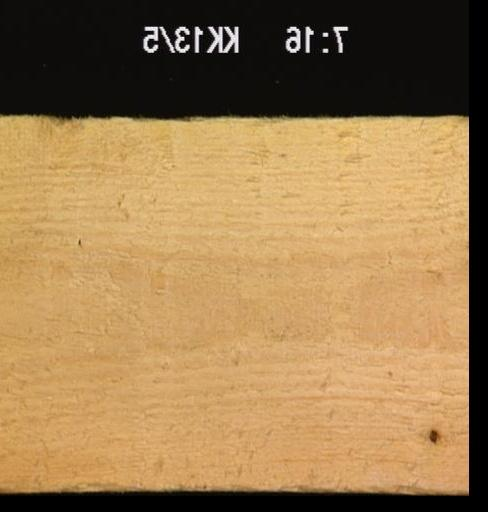small_knot: (423, 422, 441, 447)
wave: (54, 473, 162, 490)
